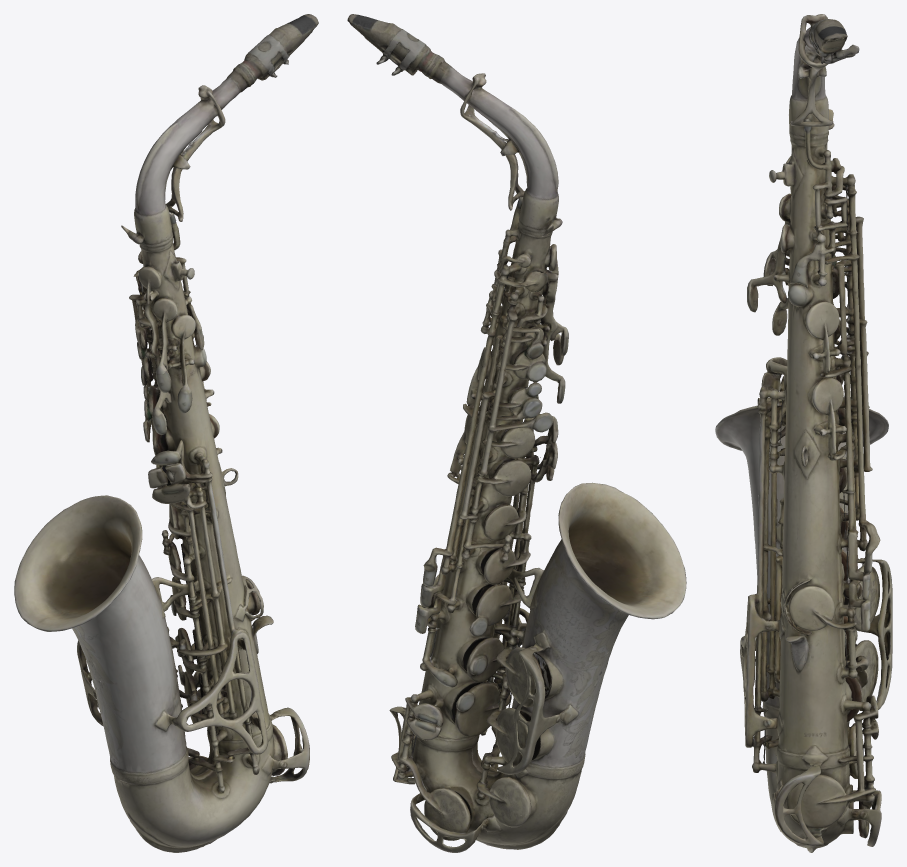
The model's file is saxophone_draco.glb.
3 renders of one model, left to right at view 1: azimuth 30°, elevation 25°; view 2: azimuth 150°, elevation 25°; view 3: azimuth 270°, elevation 25°, orthographic. The views are drawn at different scales.
Size of the model in its own units: 0.265 by 0.6647 by 0.1214.
1 material, 1 textured.
